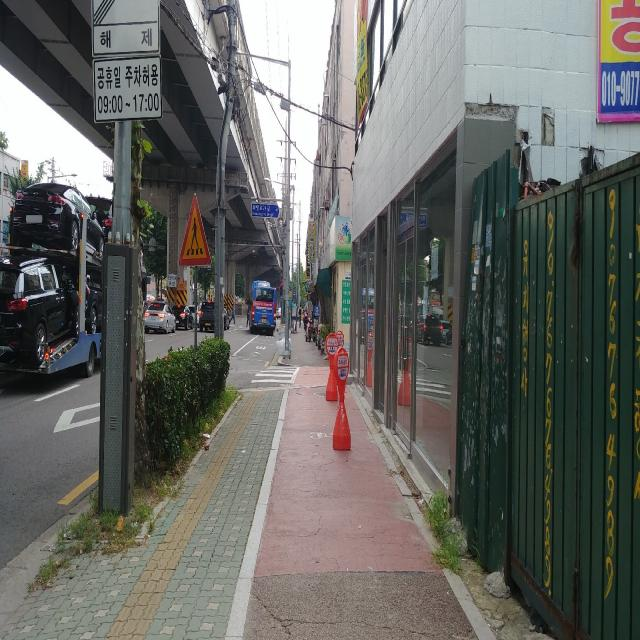횡단보도: (251, 366, 297, 384)
